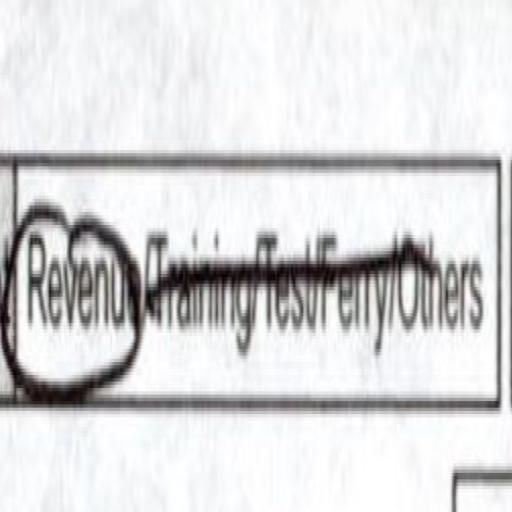check: (12, 132, 139, 437)
